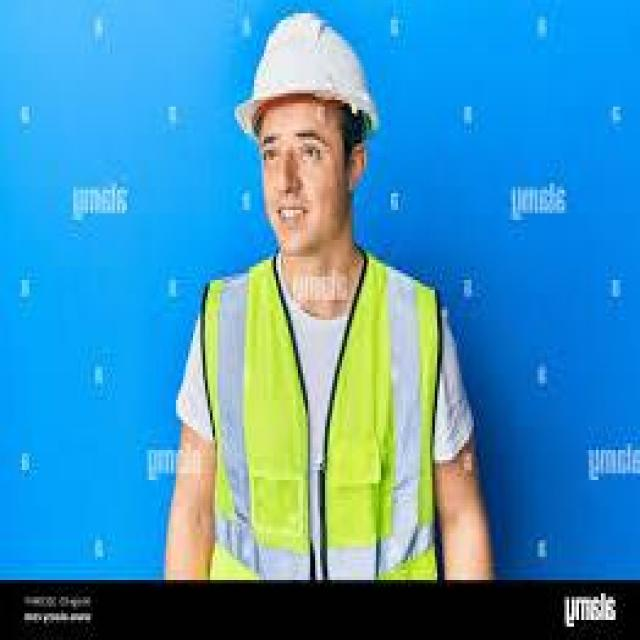Reflective-Jacket: (193, 254, 452, 584)
Safety-Helmet: (237, 3, 381, 140)
